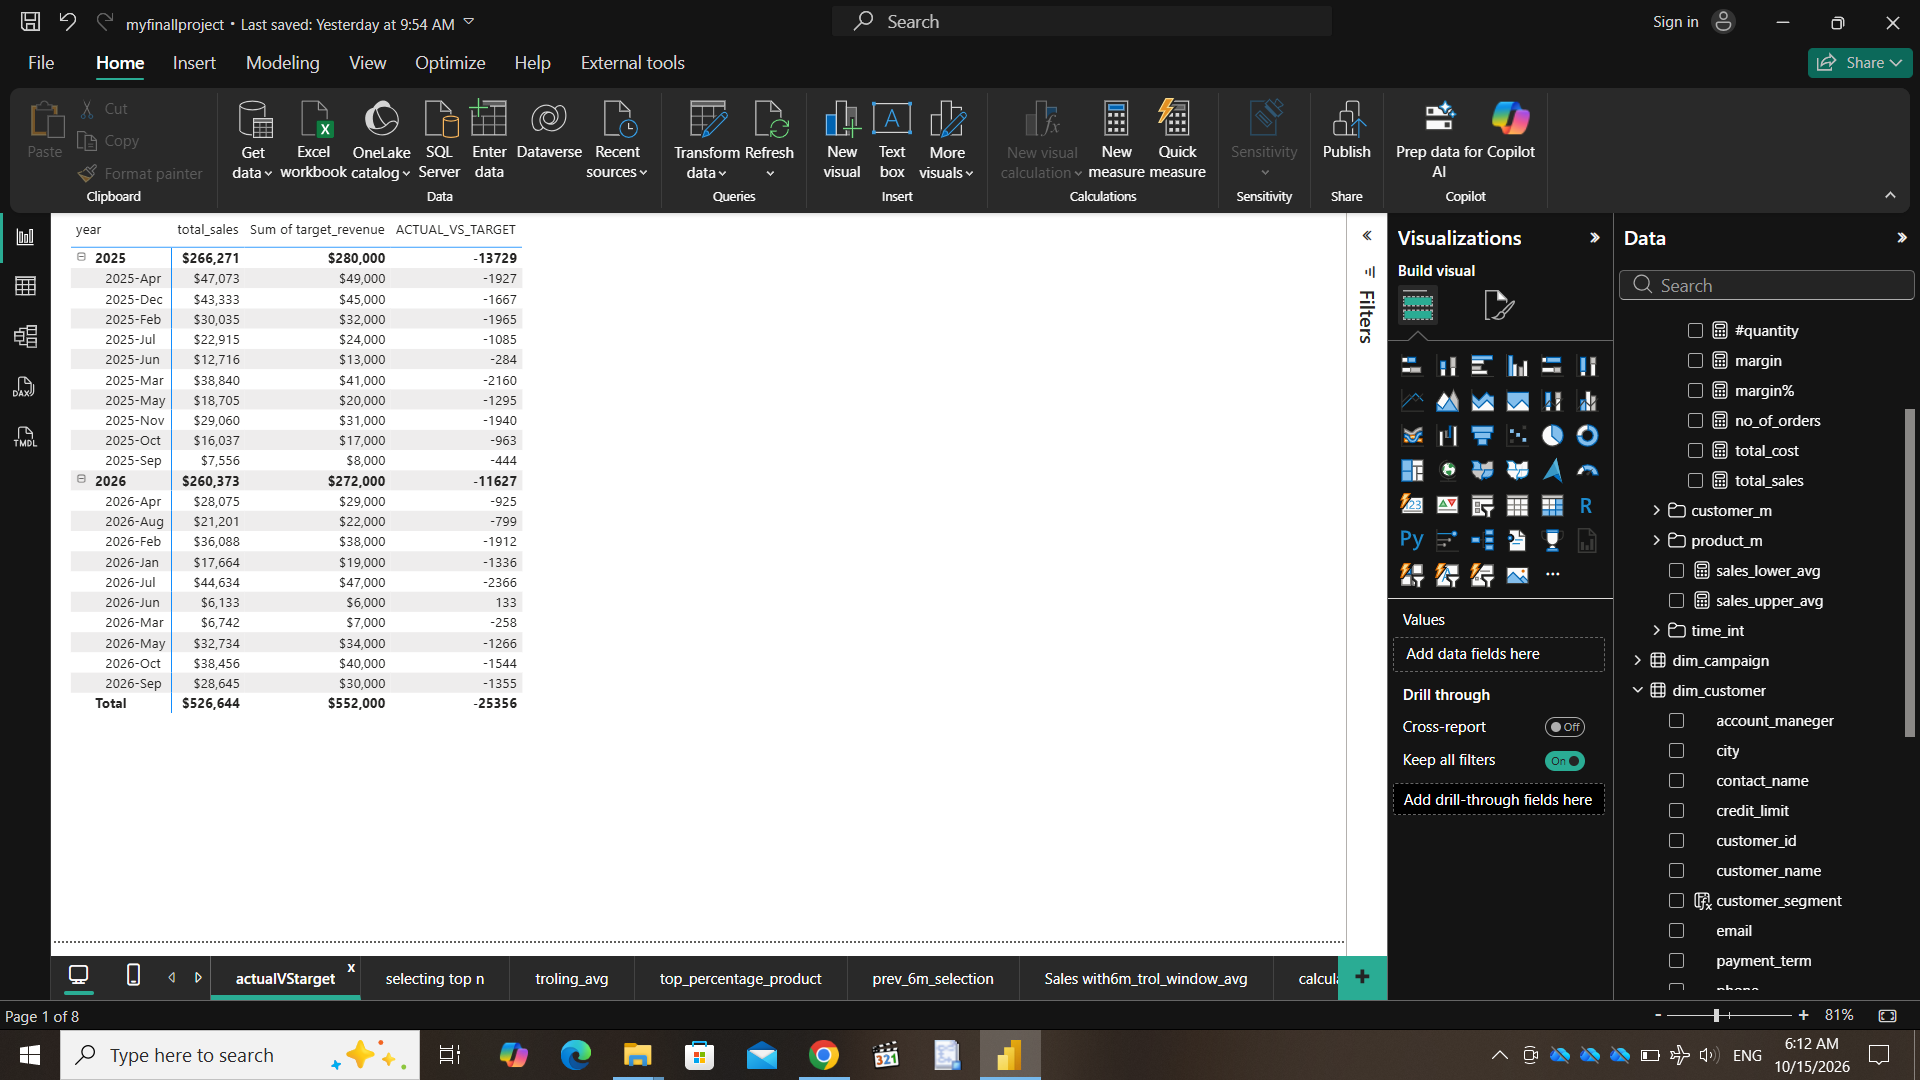

The page's visual inventory and layout, read from the dashboard file:
{"tool":"powerbi","page":{"name":"actualVStarget","canvas":[1280,720],"ordinal":1},"visuals":[{"type":"pivotTable","fields":{"Rows":["dim_date.year","dim_date.YEAR_MONTH_NAME"],"Values":["_meassures.total_sales","Sum(fact_target_revenue.target_revenue)","_meassures.ACTUAL_VS_TARGET"]},"box":[100.2,102.9,606.5,583.2],"z":0}]}

Visuals, with their boxes on the page's 1280x720 design canvas (x1, y1, x2, y2). These are canvas units, not pixel positions in the 1920x1080 screenshot, which may show the page scaled, cropped or inside an application window:
pivotTable - dim_date.year x dim_date.YEAR_MONTH_NAME: box=[100, 103, 707, 686]
